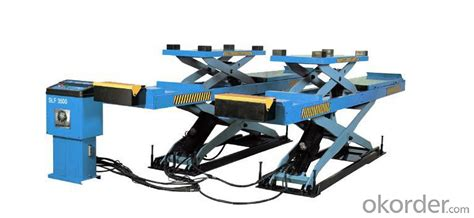Scissor Lift: (44, 41, 407, 200)
